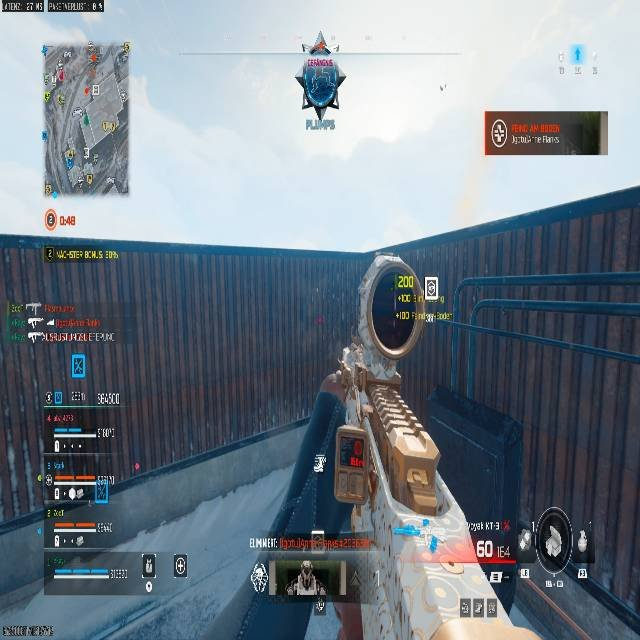head: (361, 256, 422, 354), (308, 36, 328, 56)
player: (270, 253, 478, 640), (294, 35, 346, 130)
